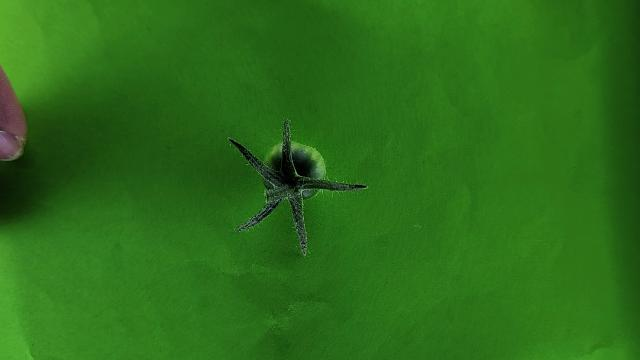Fruit Maturation: (261, 140, 328, 200)
